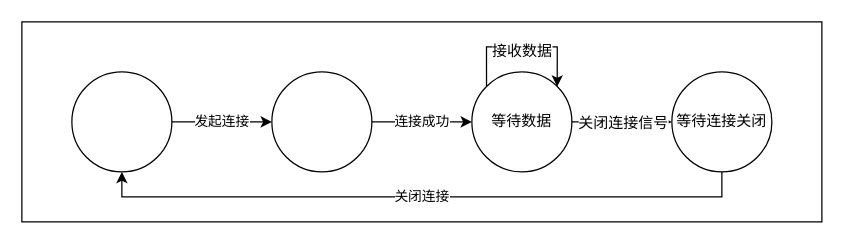
Image size: 844x244. Some labels were removed from this diagram. Each missing label, with the box of its shape:
准备: (71, 71, 172, 172)
等待连接: (271, 71, 372, 172)
